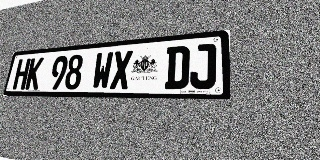8: (63, 54, 85, 89)
9: (48, 55, 69, 89)
D: (164, 45, 190, 89)
H: (12, 58, 31, 89)
J: (189, 43, 216, 89)
K: (25, 57, 44, 89)
W: (91, 52, 114, 89)
X: (110, 50, 133, 89)
